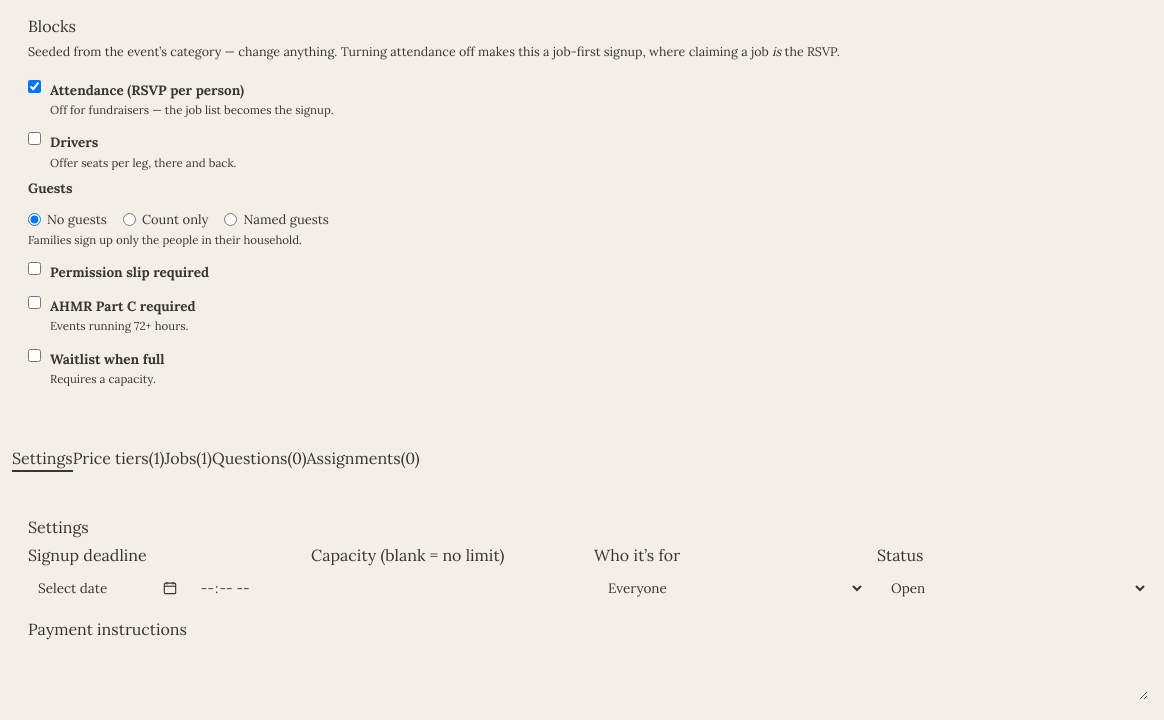
Test case: Builder — Jobs tab: Add a job is hidden until asked for › JobList_ShowsEachJobsRosterCode_InParenthesesAfterTheName
Click the tab "Jobs (1)". click: point(188, 459)
box: [164,446,212,472]
(page scrolled)
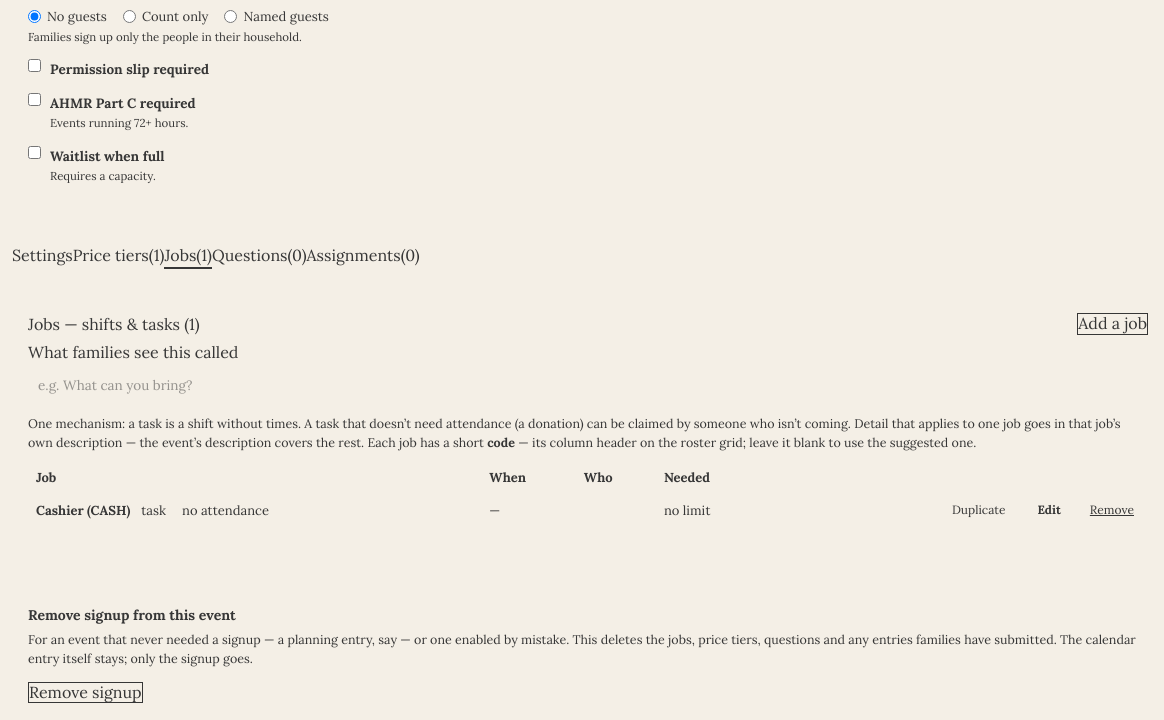
Now the button "Cashier (CASH)" is shown, box [36,500,130,520]
